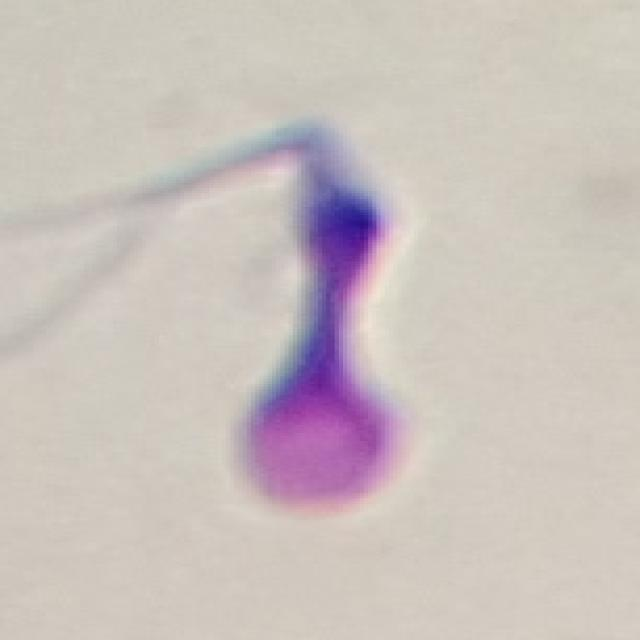abnormal sperm: (194, 114, 409, 516)
